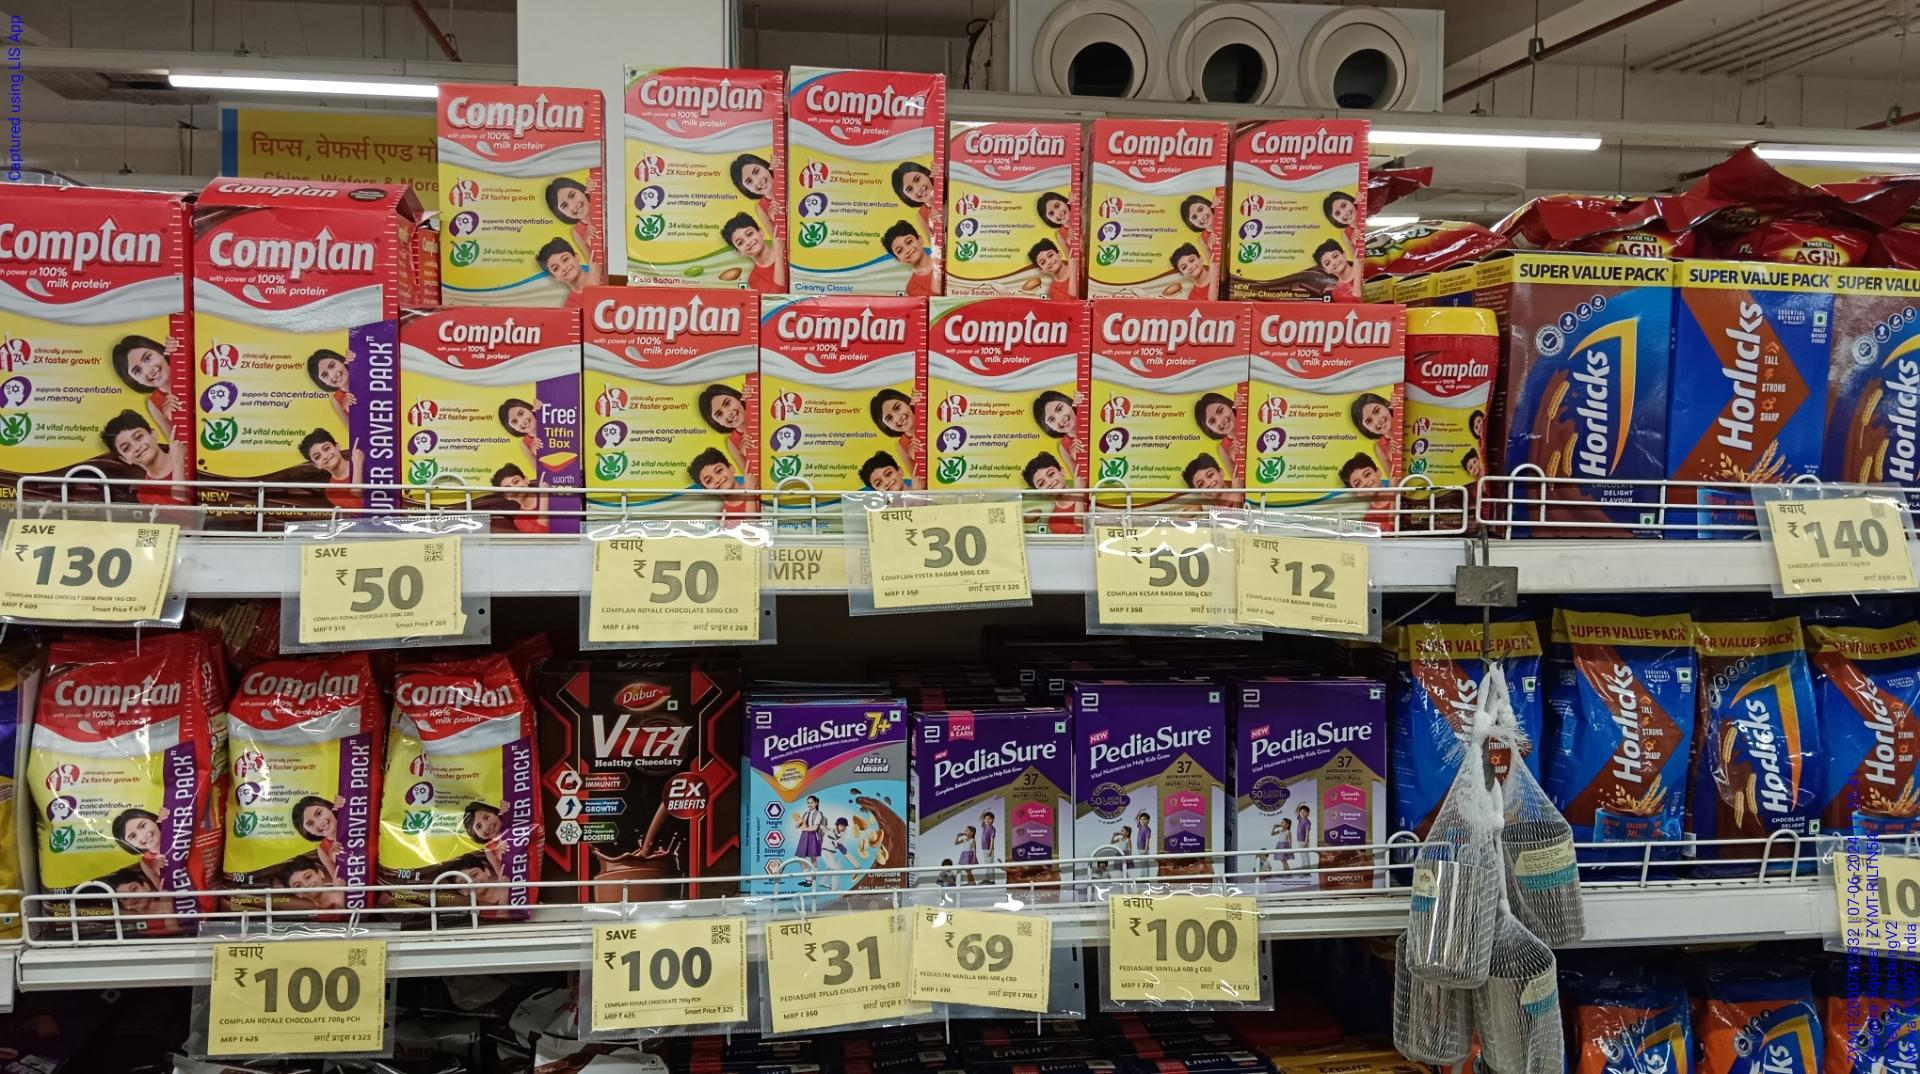PEDIASURE_7_PLUS_CHOCOLATE_400_G_PACK: (753, 701, 907, 897)
PEDIASURE_CHOCOLATE_500_G_PACK: (1237, 685, 1386, 881), (1079, 686, 1225, 879), (923, 710, 1069, 901)
